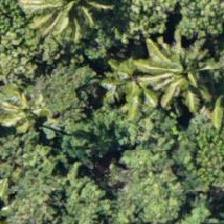coconut_tree: (77, 45, 167, 135), (139, 19, 223, 109), (0, 60, 64, 150), (16, 0, 106, 51)
